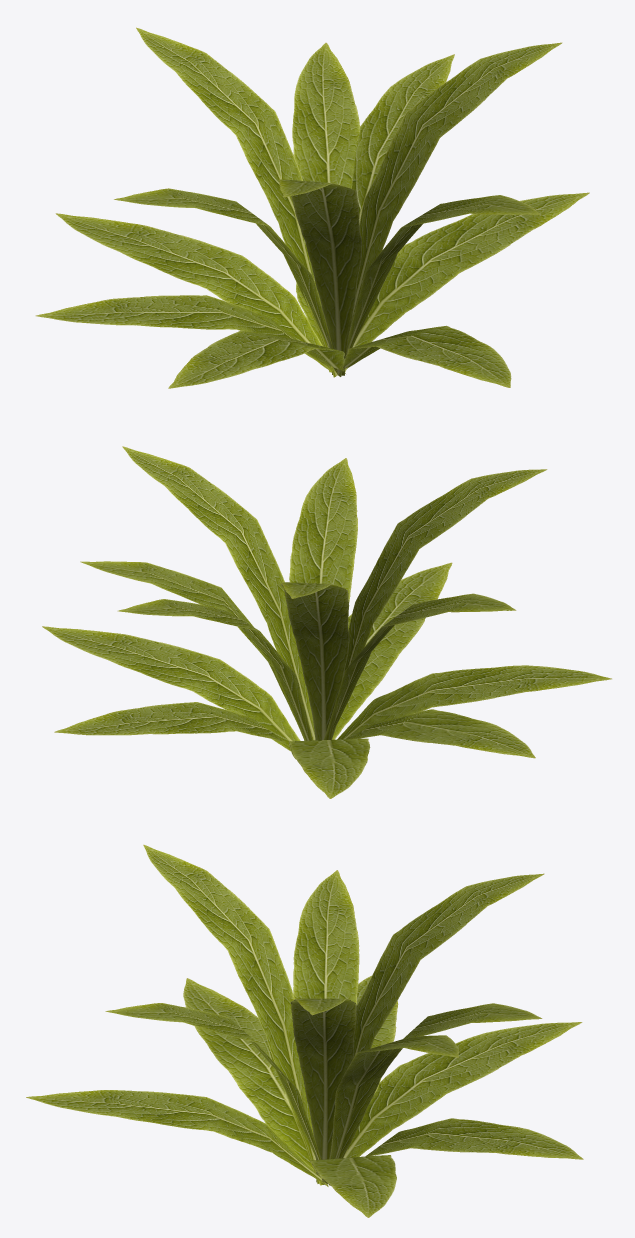
Rendered from Shrubbery.FBX.
The picture shows the model from 3 angles, top to bottom: view 1: azimuth 30°, elevation 25°; view 2: azimuth 150°, elevation 25°; view 3: azimuth 270°, elevation 25°; orthographic projection. The views are drawn at different scales.
Parts seen in each view (by area): view 1: Plane004; view 2: Plane004; view 3: Plane004.
Part boxes in pixels (x1,y1,x2,y2): Plane004: [35, 27, 589, 388]; Plane004: [42, 446, 611, 798]; Plane004: [26, 844, 583, 1217].
Size of the model in its own units: 99.94 by 96.46 by 47.37.
